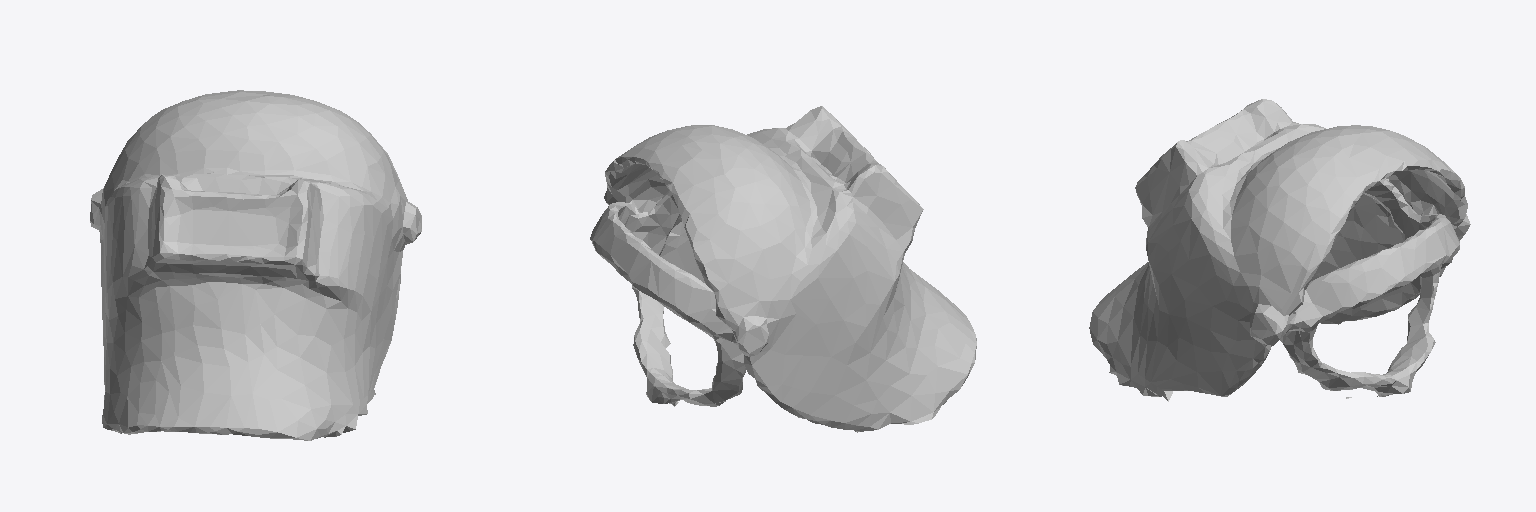
The model's file is masque2.obj.
3 renders of one model, left to right at view 1: azimuth 30°, elevation 25°; view 2: azimuth 150°, elevation 25°; view 3: azimuth 270°, elevation 25°, orthographic.
Visible parts, largest first — view 1: mmGroup0, mmGroup3; view 2: mmGroup0; view 3: mmGroup0, mmGroup3.
Boxes of the visible parts, <box> form: mmGroup0: <box>90,90,421,440</box>; mmGroup3: <box>320,390,375,437</box>; mmGroup0: <box>590,106,976,432</box>; mmGroup0: <box>1089,99,1470,398</box>; mmGroup3: <box>1103,352,1172,401</box>.
Bounding box in the file's own units: 313 × 235 × 316.